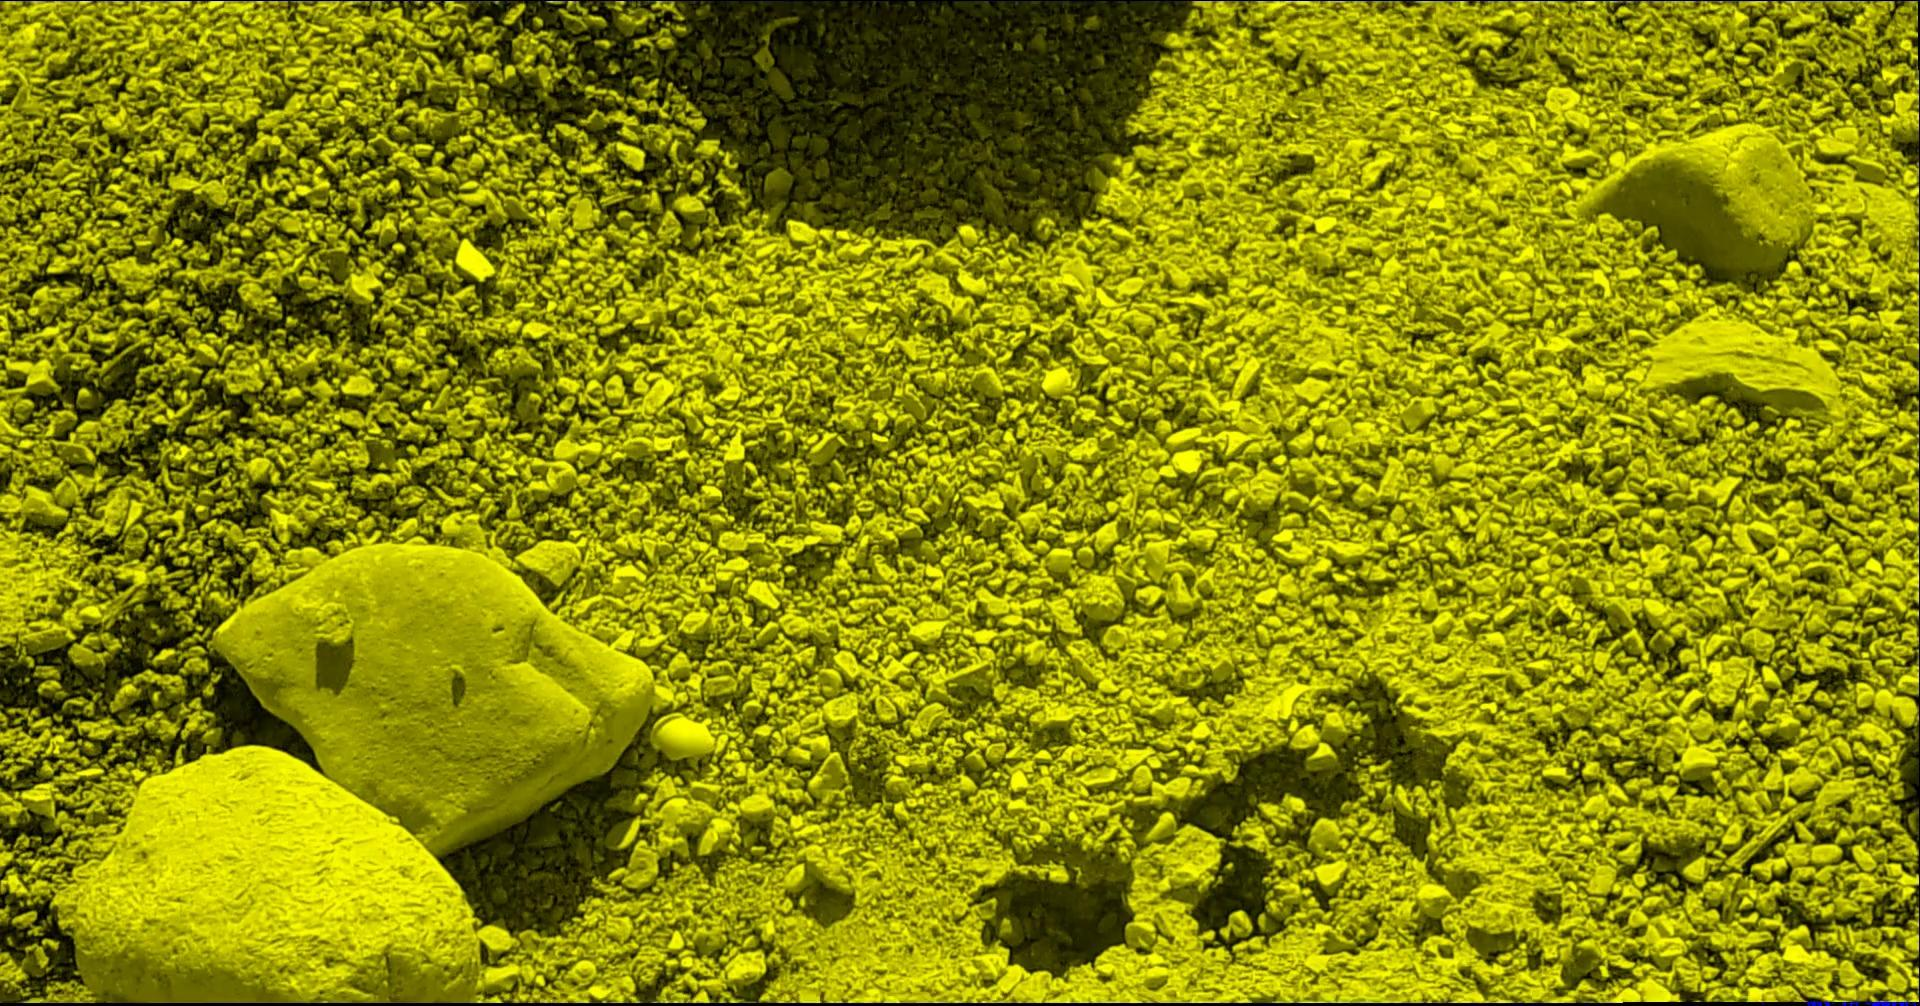ant: (1864, 998, 1916, 1005), (1806, 1000, 1835, 1005)
